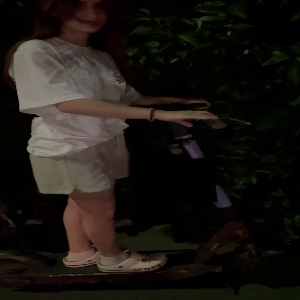human on a scooter: (1, 1, 298, 290)
